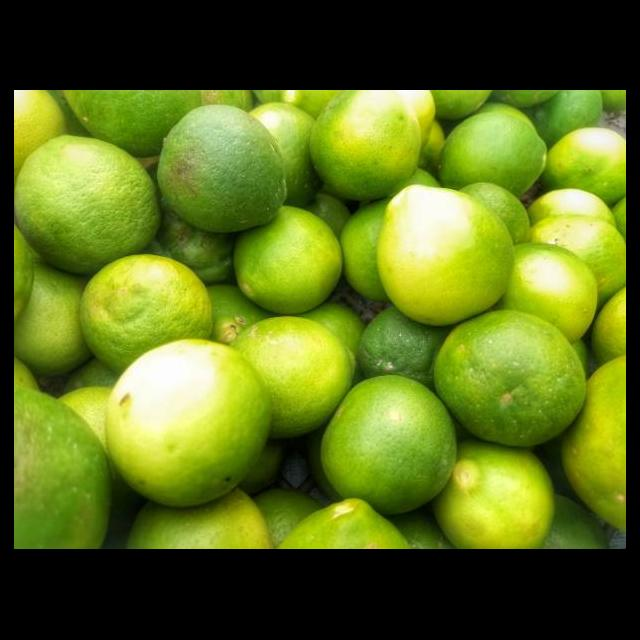lime: (317, 376, 460, 518), (378, 186, 515, 328)
